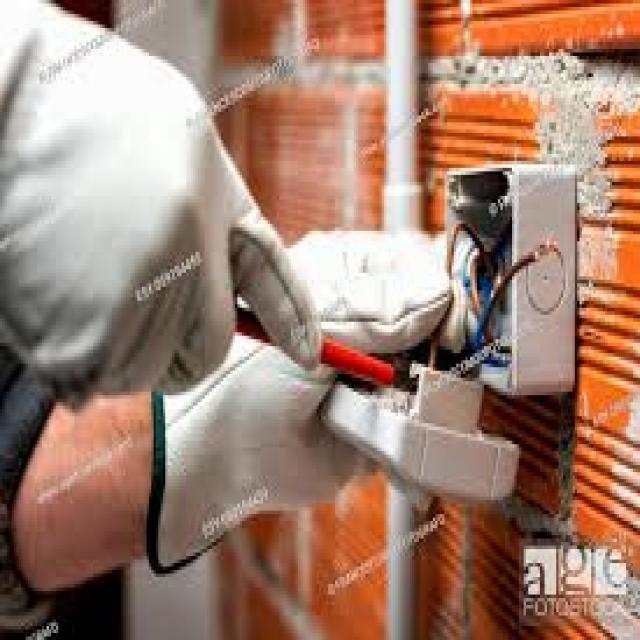screwdriver: (154, 266, 422, 398)
